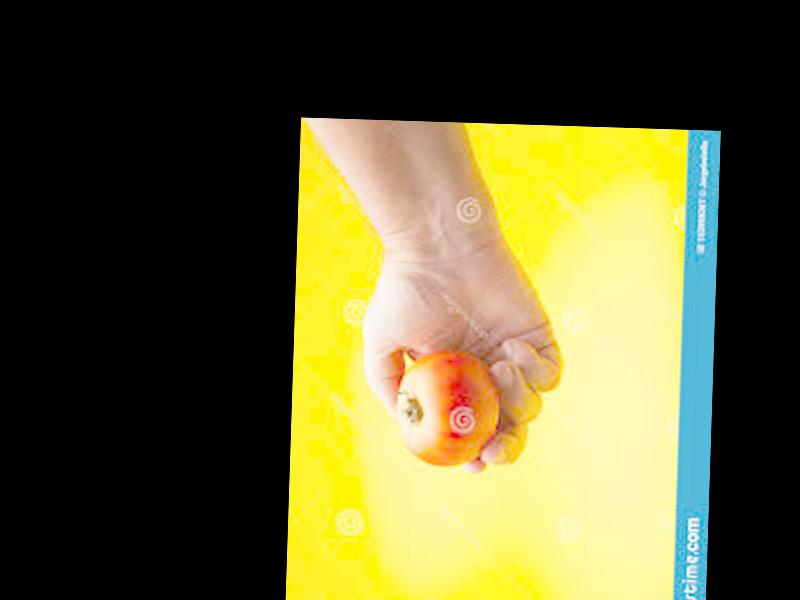Tomato: (395, 349, 500, 467)
